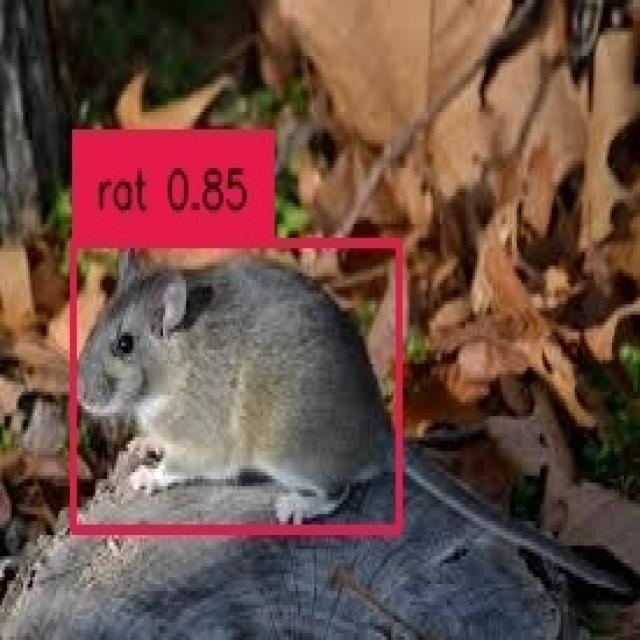rat: (70, 238, 396, 524)
